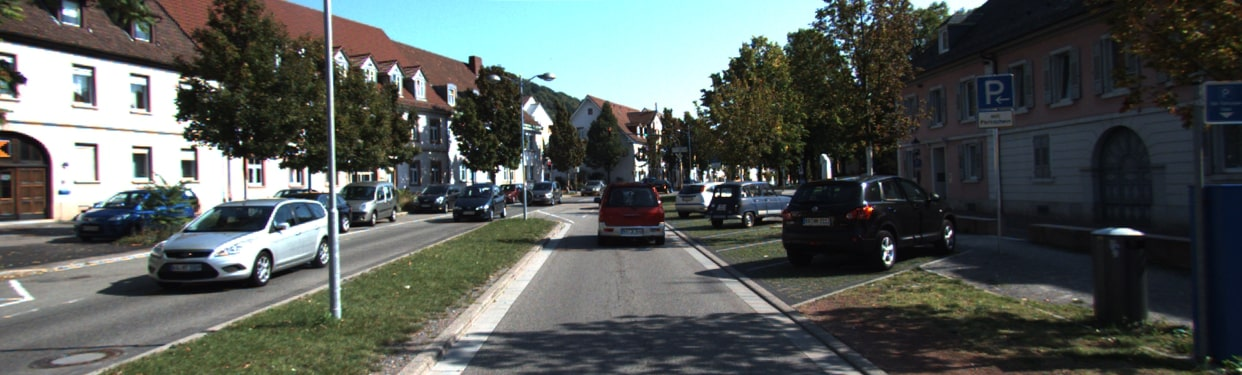car: (141, 188, 340, 297), (772, 172, 978, 276), (68, 180, 194, 238), (595, 184, 677, 251), (704, 178, 787, 226), (351, 178, 397, 227), (443, 184, 503, 220), (674, 180, 708, 218), (411, 185, 453, 211), (530, 179, 567, 208)
